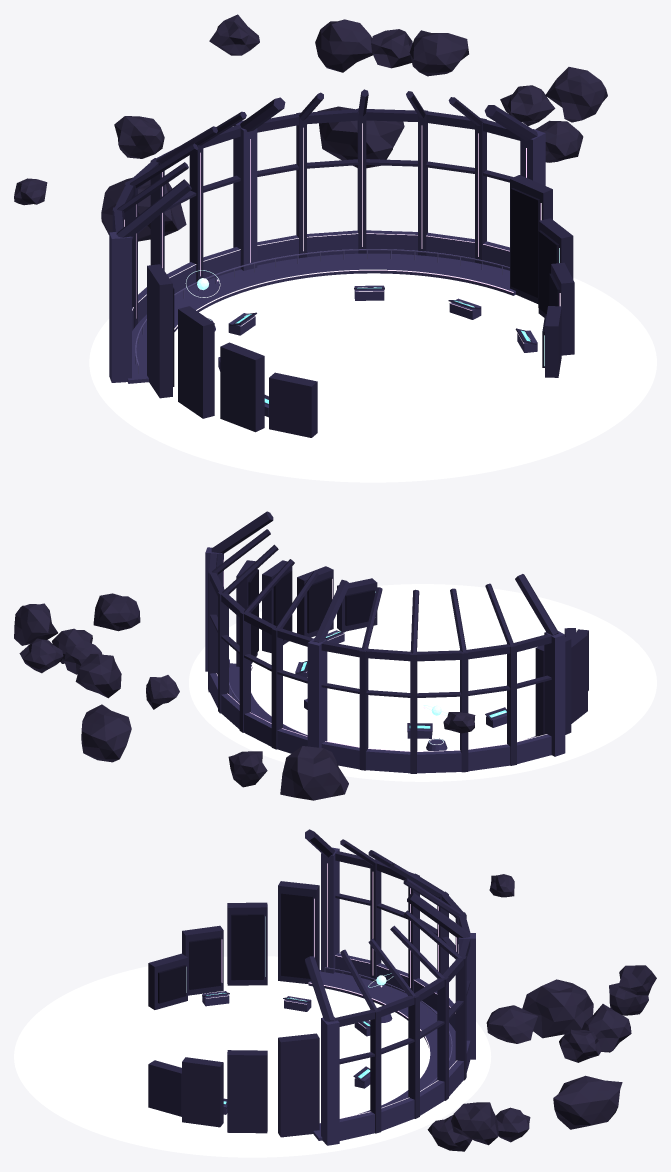
The picture shows the model from 3 angles, top to bottom: view 1: azimuth 30°, elevation 25°; view 2: azimuth 150°, elevation 25°; view 3: azimuth 270°, elevation 25°; orthographic projection. The views are drawn at different scales.
Visible parts, largest first — view 1: decor, sol; view 2: decor, sol; view 3: decor, sol.
Boxes of the visible parts, x1,y1,x2,y2 form: decor: [14, 14, 607, 437]; sol: [89, 273, 656, 482]; decor: [14, 511, 588, 800]; sol: [189, 584, 656, 781]; decor: [148, 829, 656, 1151]; sol: [14, 956, 491, 1157].
Size of the model in its own units: 61.64 by 18.96 by 67.37.
